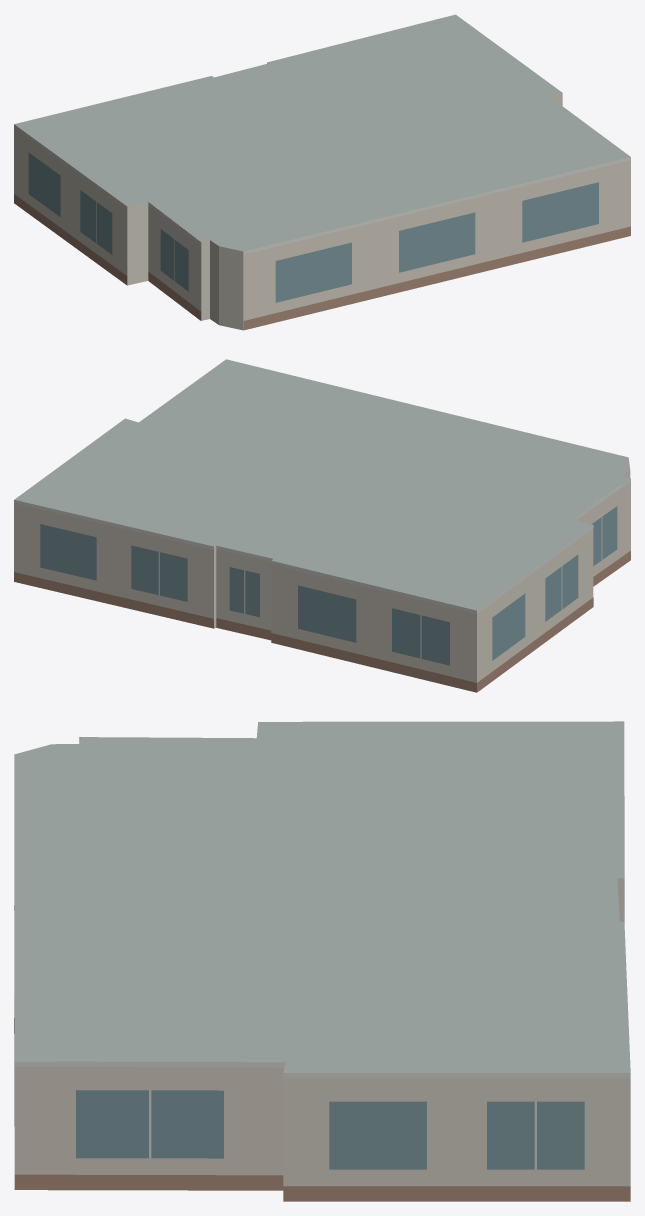
The model's file is survey-upis-32786366.glb.
The picture shows the model from 3 angles, top to bottom: view 1: azimuth 30°, elevation 25°; view 2: azimuth 150°, elevation 25°; view 3: azimuth 270°, elevation 25°; orthographic projection. The views are drawn at different scales.
Parts seen in each view (by area): view 1: survey-upis-32786366.tmp; view 2: survey-upis-32786366.tmp; view 3: survey-upis-32786366.tmp.
Part boxes in pixels (x1=…): survey-upis-32786366.tmp: x1=14, y1=14, x2=630, y2=330; survey-upis-32786366.tmp: x1=14, y1=359, x2=630, y2=692; survey-upis-32786366.tmp: x1=14, y1=721, x2=630, y2=1201.
Size of the model in its own units: 17.94 by 3.05 by 13.29.
